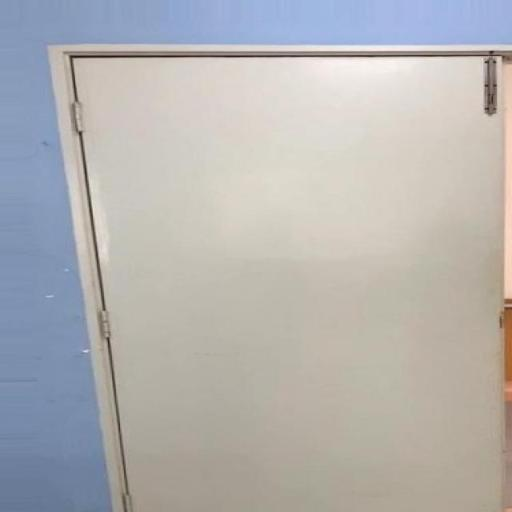door: (52, 44, 508, 512)
